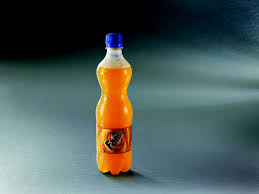fanta: (94, 44, 132, 174)
